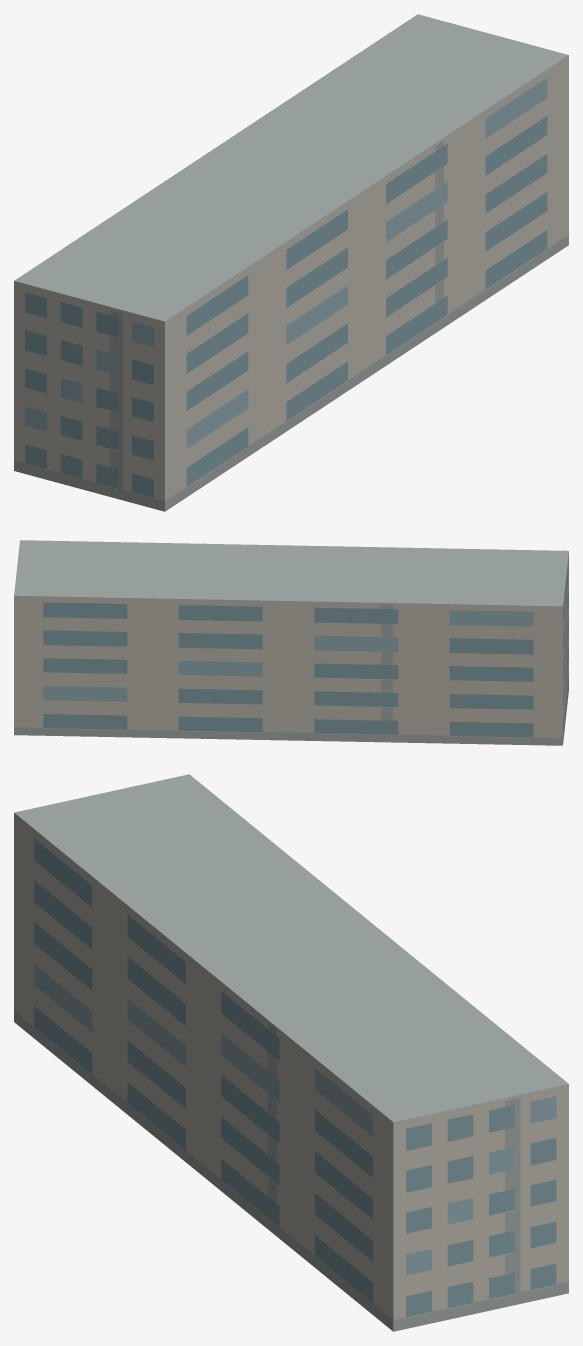
The model's file is residential-5e90abd5-e9ad-4226-a926-a07f8051770c.glb.
3 renders of one model, top to bottom at view 1: azimuth 30°, elevation 25°; view 2: azimuth 150°, elevation 25°; view 3: azimuth 270°, elevation 25°, orthographic. The views are drawn at different scales.
Visible parts, largest first — view 1: residential-5e90abd5-e9ad-4226-a926-a07f8051770c.tmp; view 2: residential-5e90abd5-e9ad-4226-a926-a07f8051770c.tmp; view 3: residential-5e90abd5-e9ad-4226-a926-a07f8051770c.tmp.
Part boxes in pixels (<box>): residential-5e90abd5-e9ad-4226-a926-a07f8051770c.tmp: <box>14,14,568,511</box>; residential-5e90abd5-e9ad-4226-a926-a07f8051770c.tmp: <box>14,540,568,745</box>; residential-5e90abd5-e9ad-4226-a926-a07f8051770c.tmp: <box>14,774,568,1331</box>.
Size of the model in its own units: 54.37 by 15.25 by 36.62.
